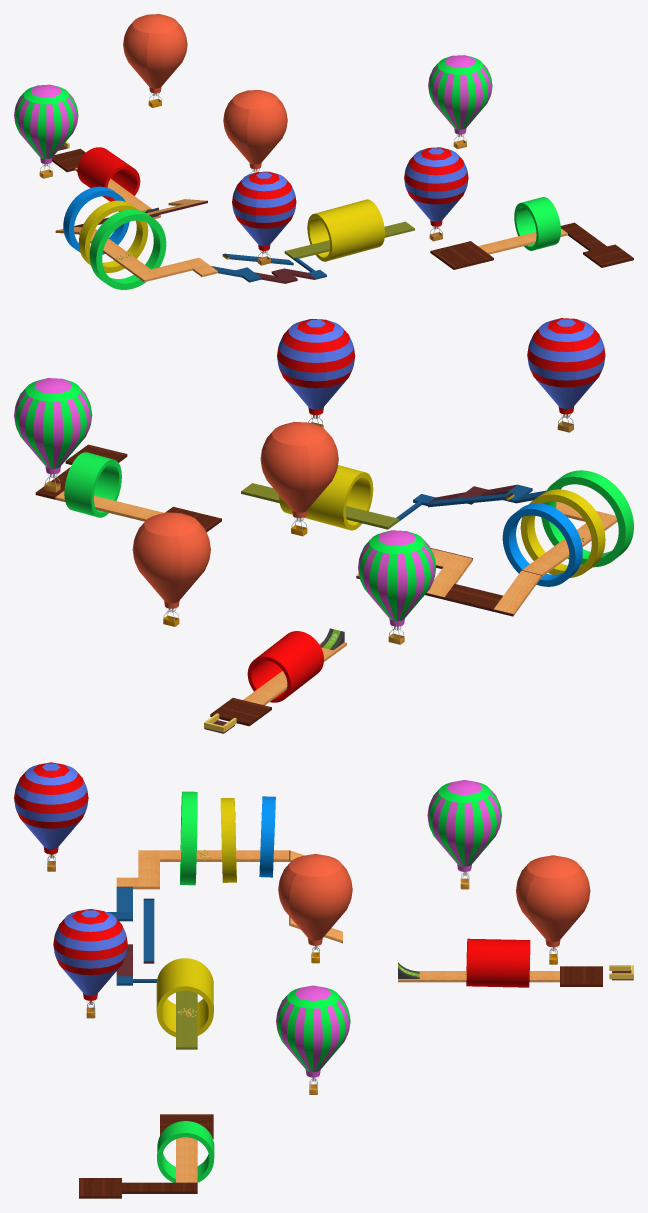
Rendered from LEVEL 11.fbx.
3 renders of one model, top to bottom at view 1: azimuth 30°, elevation 25°; view 2: azimuth 150°, elevation 25°; view 3: azimuth 270°, elevation 25°, orthographic. The views are drawn at different scales.
Visible parts, largest first — view 1: ballon_5, ballon, ballon_4, ballon_1, ballon_2, ballon_3, yellow_ring__1_, green_ring, red_ring, green_ring__1_, yellow_ring, blue_ring (+9 smaller); view 2: ballon_1, ballon_4, ballon_3, ballon, ballon_2, ballon_5, red_ring, yellow_ring__1_, green_ring__1_, green_ring, blue_ring, yellow_ring (+7 smaller); view 3: ballon_2, ballon_5, ballon_4, ballon_3, ballon, ballon_1, red_ring, yellow_ring__1_, green_ring__1_, green_ring, polySurface1, yellow_ring (+10 smaller).
Boxes of the visible parts, x1,y1,x2,y2 form: ballon_5: [404, 147, 468, 241]; ballon: [428, 55, 492, 148]; ballon_4: [232, 171, 296, 265]; ballon_1: [123, 14, 187, 107]; ballon_2: [14, 84, 78, 178]; ballon_3: [223, 90, 287, 173]; yellow_ring__1_: [307, 199, 384, 261]; green_ring: [89, 209, 166, 289]; red_ring: [77, 147, 140, 201]; green_ring__1_: [514, 197, 560, 250]; yellow_ring: [78, 200, 148, 272]; blue_ring: [63, 186, 129, 254]; ballon_1: [132, 512, 210, 626]; ballon_4: [527, 318, 605, 432]; ballon_3: [260, 422, 338, 536]; ballon: [14, 378, 92, 492]; ballon_2: [358, 530, 436, 644]; ballon_5: [277, 319, 355, 427]; red_ring: [247, 631, 323, 702]; yellow_ring__1_: [279, 465, 373, 530]; green_ring__1_: [64, 452, 121, 517]; green_ring: [541, 470, 633, 567]; blue_ring: [502, 503, 582, 586]; yellow_ring: [520, 489, 605, 577]; ballon_2: [427, 780, 501, 889]; ballon_5: [53, 909, 127, 1018]; ballon_4: [14, 762, 88, 871]; ballon_3: [278, 853, 352, 963]; ballon: [276, 985, 350, 1094]; ballon_1: [516, 855, 590, 964]; red_ring: [466, 938, 530, 987]; yellow_ring__1_: [156, 958, 213, 1036]; green_ring__1_: [157, 1121, 214, 1182]; green_ring: [180, 791, 197, 885]; polySurface1: [138, 850, 304, 862]; yellow_ring: [220, 798, 236, 882].
Size of the model in its own units: 12231 by 4615 by 11502.
33 materials, 19 textured.
